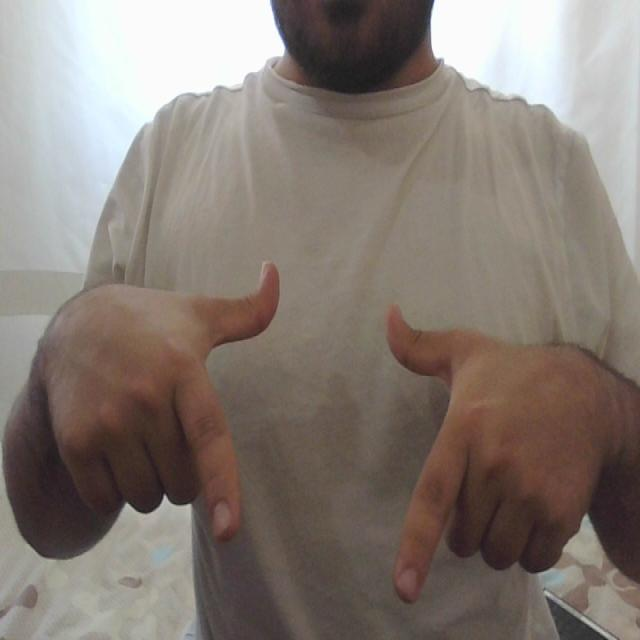Nerede: (158, 258, 495, 602)
